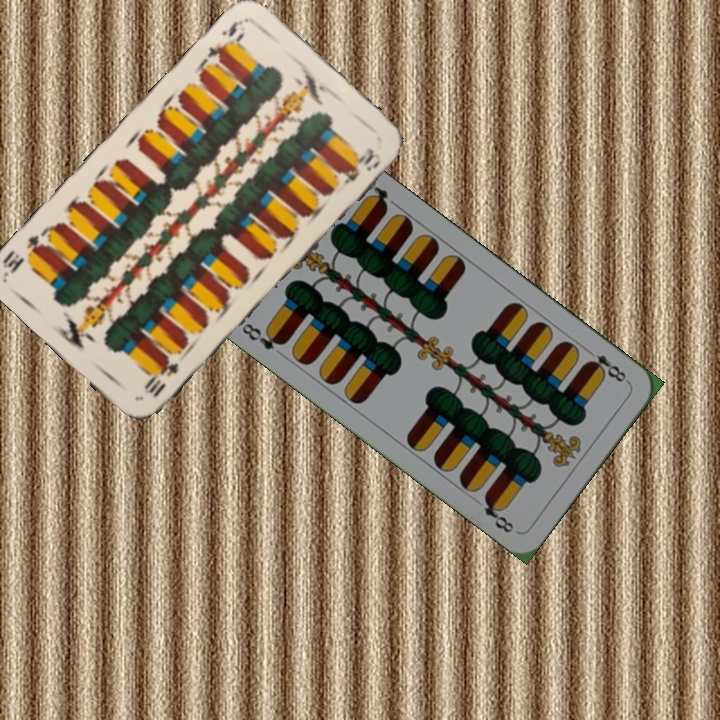E10: (202, 15, 250, 65), (140, 353, 182, 400)
E8: (582, 344, 632, 386), (237, 319, 289, 353)
